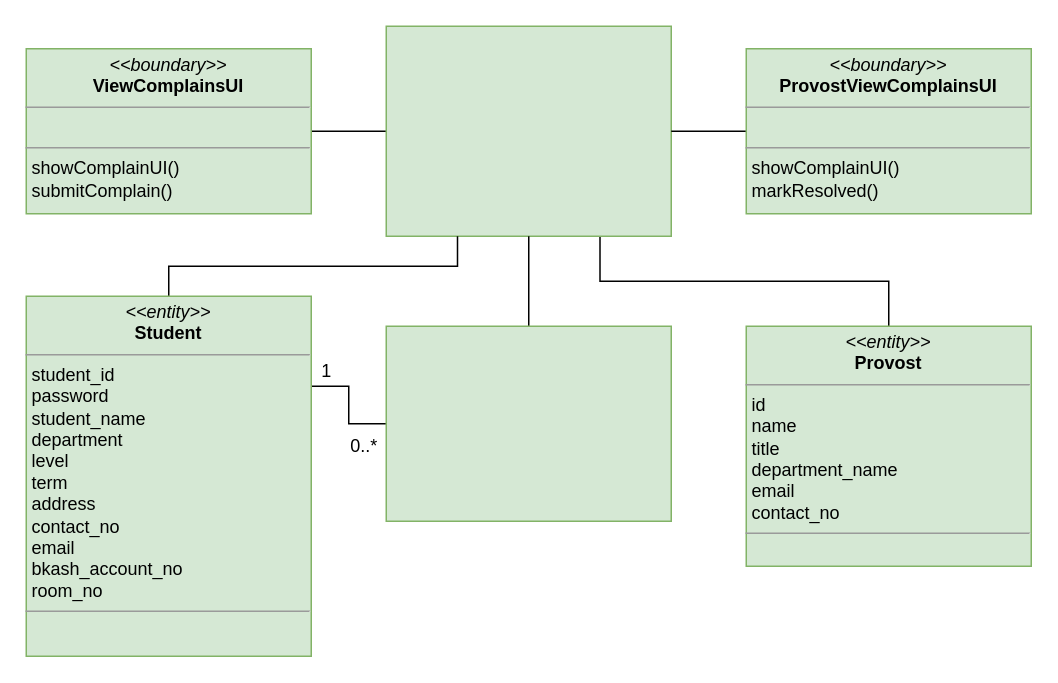
Image size: 1058x683. Some labels were removed from this diagram. The shapes that lost their labels are listed below. From the top down, each one's centre as x and y in pixels, then its label:
At [528,130]: "<<control>> ViewComplains createComplain() markResolved()".
At [528,423]: "<<entity>> Complain id topic message resolve_status".
